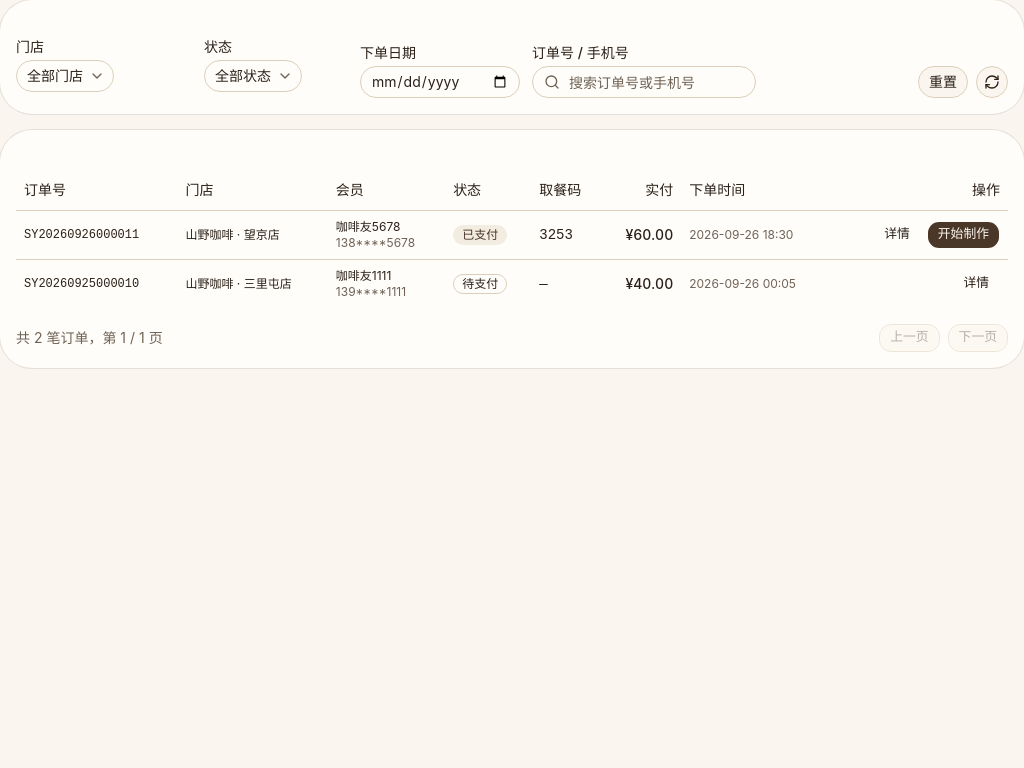
it: OrdersPage › 订单详情弹窗可推进状态（按钮禁用 → 成功后刷新列表）
The width and height of the screenshot is (1024, 768).
Expected: the text "SY20260926000011" is shown, x1=16 y1=210 x2=178 y2=259
Click the button "详情" in the row of "SY20260926000011".
click(897, 234)  # box x1=873 y1=220 x2=921 y2=248
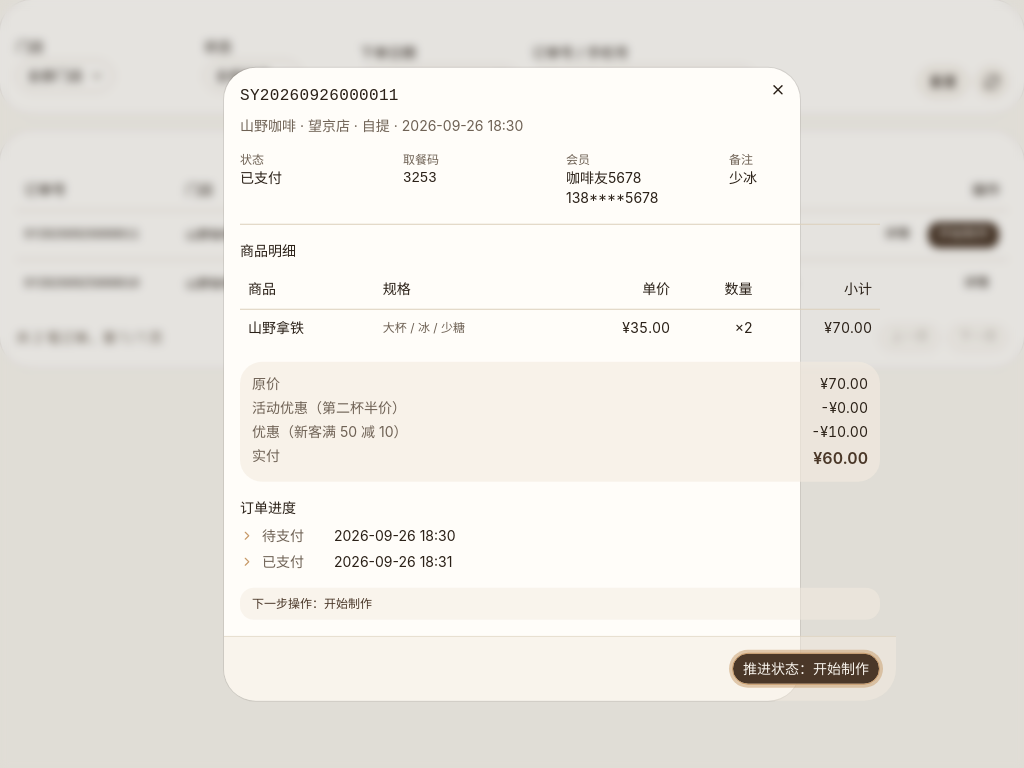
Now the text "下一步操作：开始制作" is shown, box x1=240 y1=587 x2=880 y2=619
Click the button "推进状态：开始制作".
click(806, 668)  # box x1=732 y1=652 x2=880 y2=684
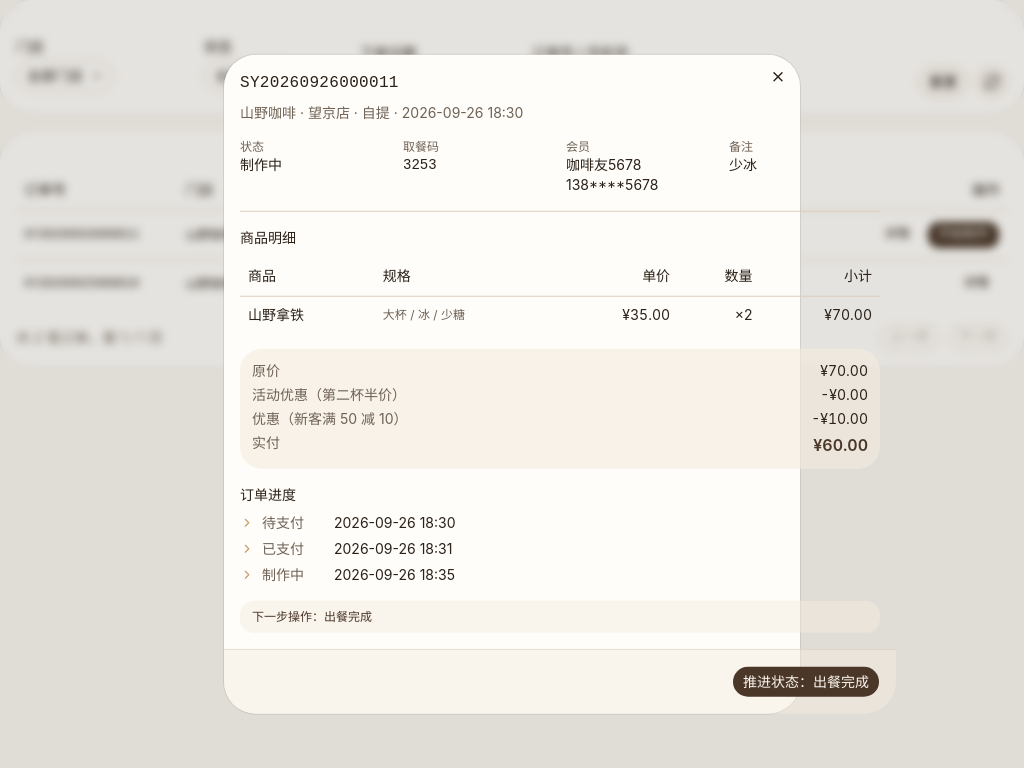
Now the text "制作中" in the row of "少冰" is shown, box x1=240 y1=156 x2=282 y2=173
